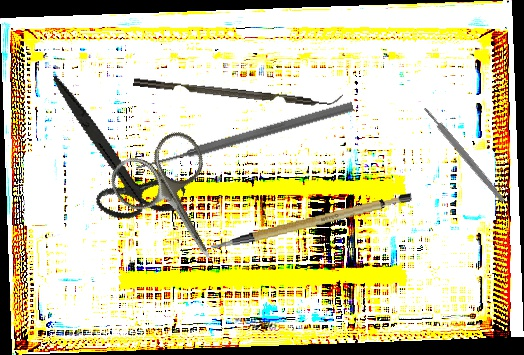Chopper: (133, 67, 343, 112)
Iris Scissors: (16, 73, 208, 238), (103, 124, 250, 284)
Pusher: (134, 99, 355, 175)
Scalpel Handle: (205, 190, 416, 250), (422, 105, 506, 204)
